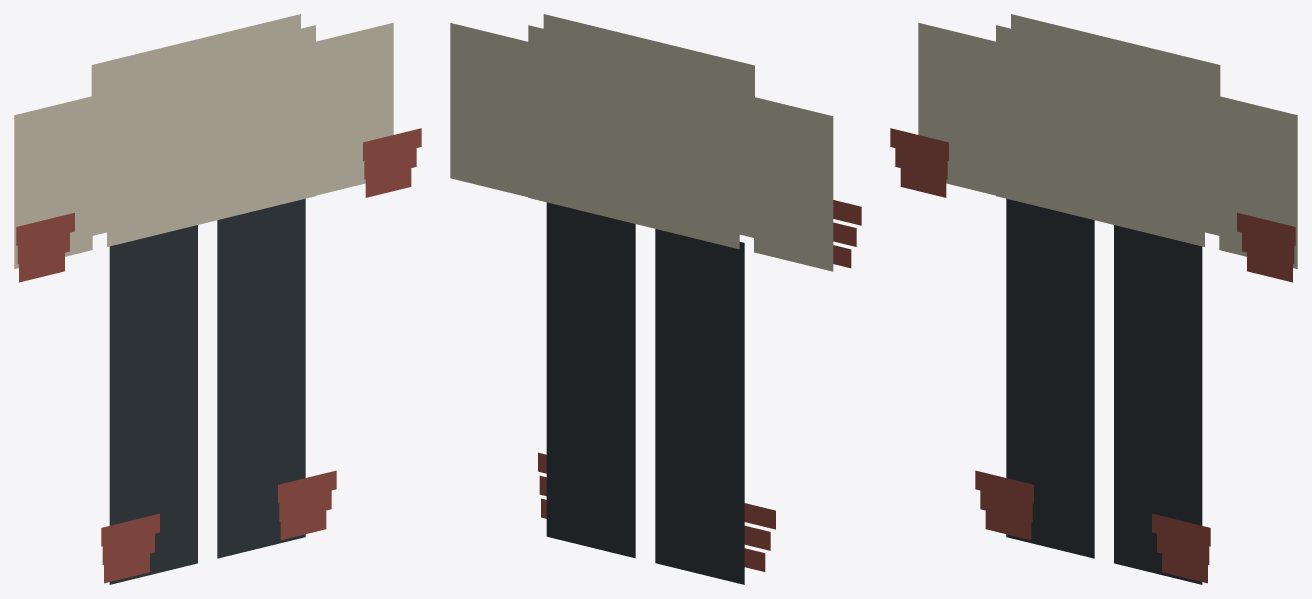
Rendered from shutter-pleat-blouse-set.obj.
The picture shows the model from 3 angles, left to right: view 1: azimuth 30°, elevation 25°; view 2: azimuth 150°, elevation 25°; view 3: azimuth 330°, elevation 25°; orthographic projection.
Visible parts, largest first — view 1: blouse_front, trouser_R, trouser_L, sleeve_R, sleeve_L, blouse_back, ankle_R_pleat_C, wrist_L_pleat_C, wrist_R_pleat_C, ankle_L_pleat_C, ankle_L_pleat_B, ankle_R_pleat_B (+6 smaller); view 2: blouse_back, trouser_L, trouser_R, sleeve_L, sleeve_R, blouse_front, ankle_L_pleat_C, wrist_L_pleat_C, ankle_L_pleat_B; view 3: blouse_front, trouser_L, trouser_R, sleeve_L, sleeve_R, blouse_back, ankle_L_pleat_C, wrist_L_pleat_C, wrist_R_pleat_C, ankle_R_pleat_C, ankle_L_pleat_B, ankle_R_pleat_B (+6 smaller).
Boxes of the visible parts, x1,y1,x2,y2 form: blouse_front: [107, 25, 315, 246]; trouser_R: [217, 198, 305, 558]; trouser_L: [109, 225, 197, 584]; sleeve_R: [316, 22, 393, 195]; sleeve_L: [14, 96, 92, 268]; blouse_back: [91, 14, 300, 235]; ankle_R_pleat_C: [278, 470, 336, 503]; wrist_L_pleat_C: [16, 213, 74, 245]; wrist_R_pleat_C: [363, 128, 421, 160]; ankle_L_pleat_C: [101, 513, 159, 546]; ankle_L_pleat_B: [102, 533, 154, 564]; ankle_R_pleat_B: [279, 490, 331, 521]; blouse_back: [528, 25, 739, 249]; trouser_L: [655, 229, 744, 584]; trouser_R: [546, 202, 635, 558]; sleeve_L: [754, 97, 833, 271]; sleeve_R: [450, 23, 528, 196]; blouse_front: [543, 14, 754, 237]; ankle_L_pleat_C: [744, 503, 775, 529]; wrist_L_pleat_C: [833, 200, 861, 225]; ankle_L_pleat_B: [744, 525, 770, 550]; blouse_front: [996, 25, 1204, 246]; trouser_L: [1006, 198, 1094, 558]; trouser_R: [1114, 225, 1202, 584]; sleeve_L: [918, 22, 995, 195]; sleeve_R: [1219, 96, 1297, 268]; blouse_back: [1011, 14, 1220, 235]; ankle_L_pleat_C: [975, 470, 1033, 503]; wrist_L_pleat_C: [890, 128, 948, 160]; wrist_R_pleat_C: [1237, 213, 1295, 245]; ankle_R_pleat_C: [1152, 513, 1210, 546]; ankle_L_pleat_B: [980, 490, 1032, 521]; ankle_R_pleat_B: [1157, 533, 1209, 564].
Size of the model in its own units: 1.24 by 1.5 by 0.12.
